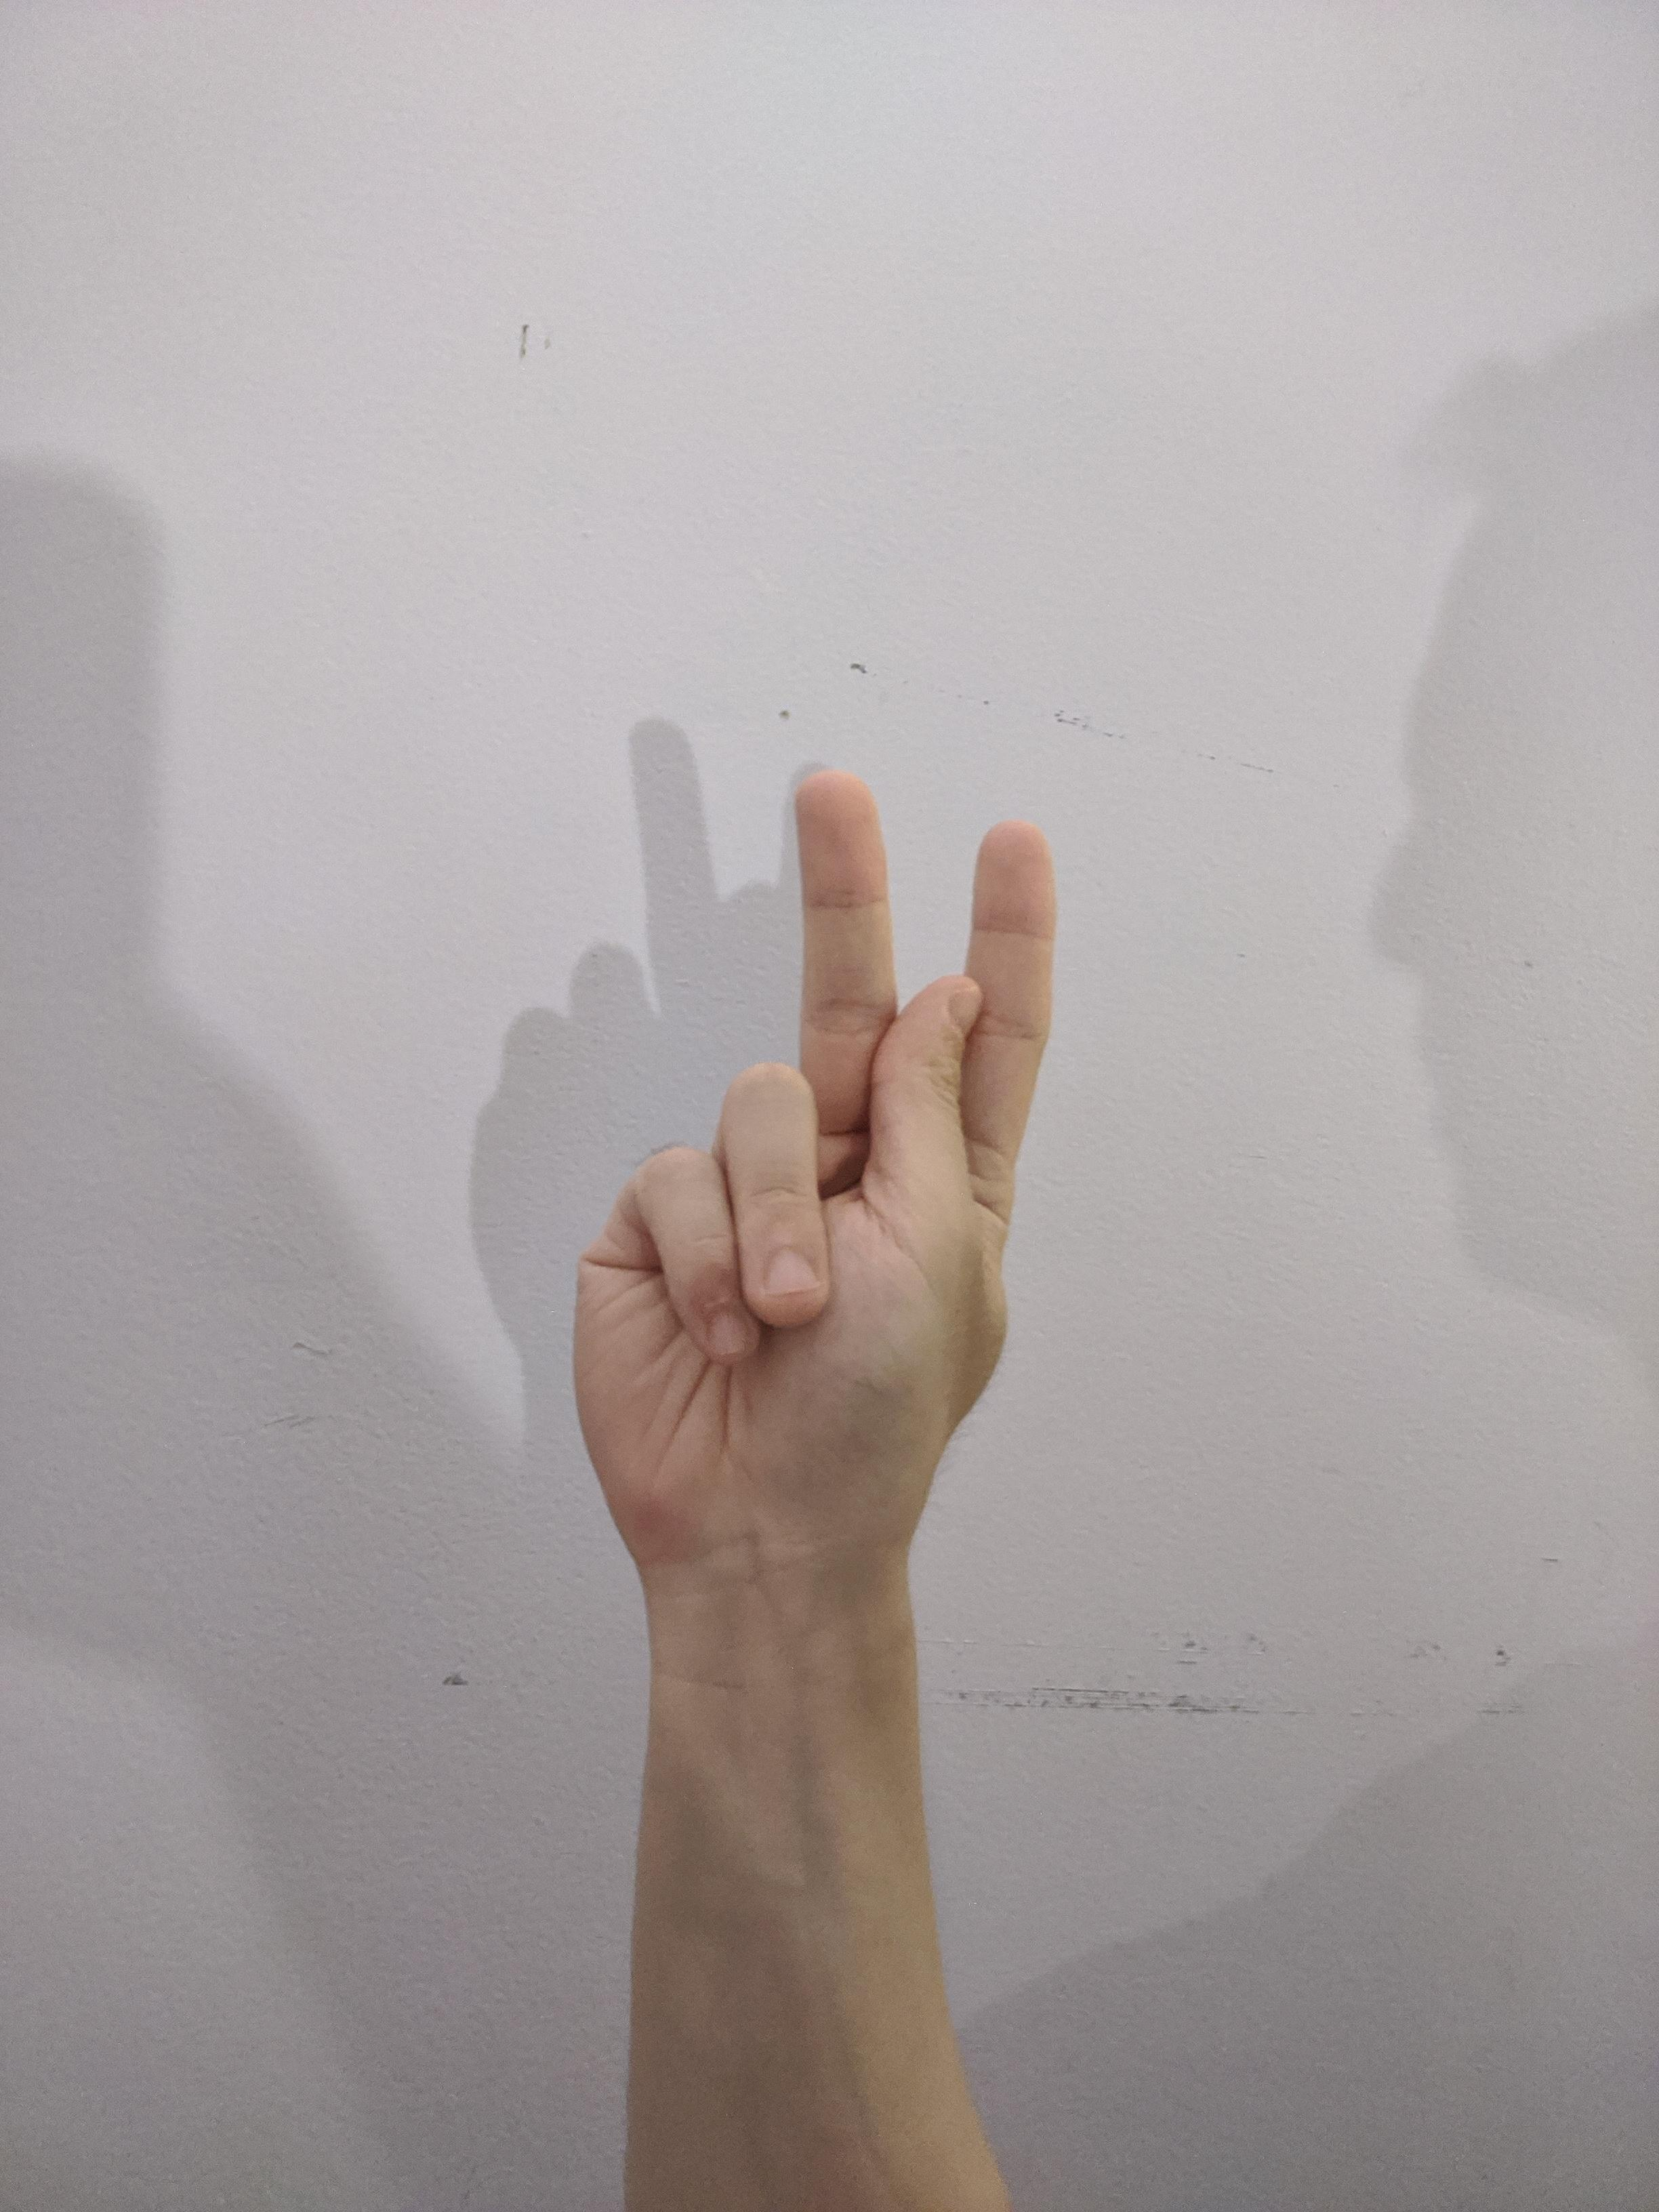K: (549, 744, 1086, 1616)
